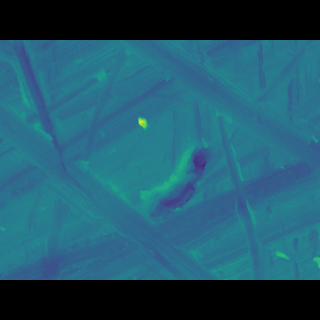Loch: (0, 116, 221, 253), (124, 68, 320, 164), (213, 125, 265, 250)
